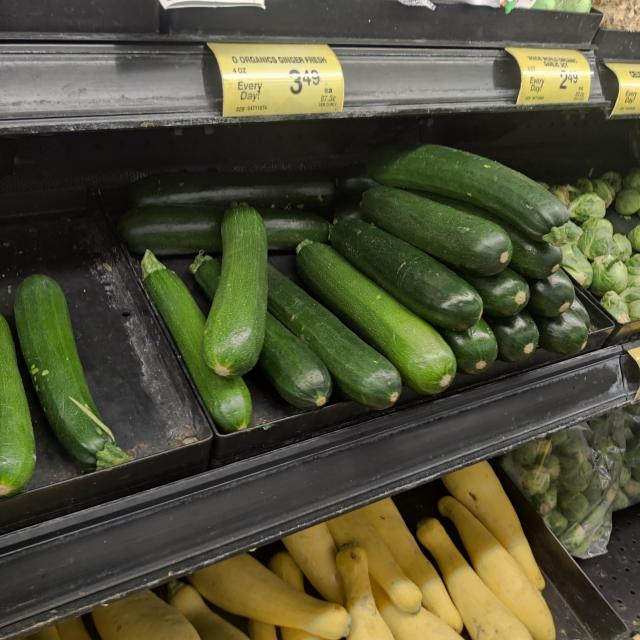Zucchini: (298, 237, 462, 392), (248, 247, 392, 410), (383, 139, 576, 254), (24, 269, 129, 479), (140, 250, 254, 432), (366, 186, 510, 292), (208, 194, 265, 369)
